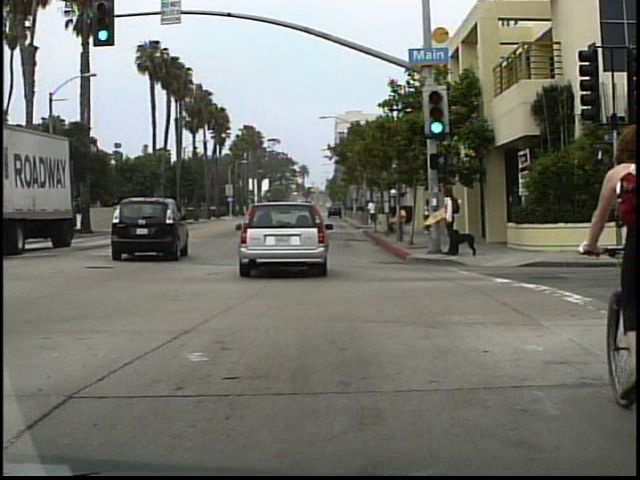person: (441, 185, 463, 253), (369, 196, 380, 230)
